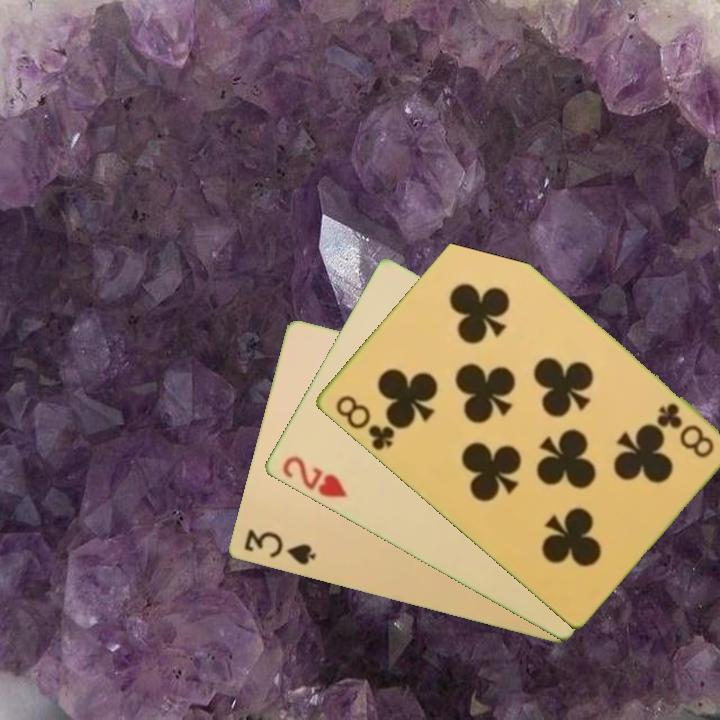2h: (277, 452, 349, 501)
3s: (240, 526, 318, 569)
8c: (652, 399, 717, 462), (331, 392, 397, 454)
